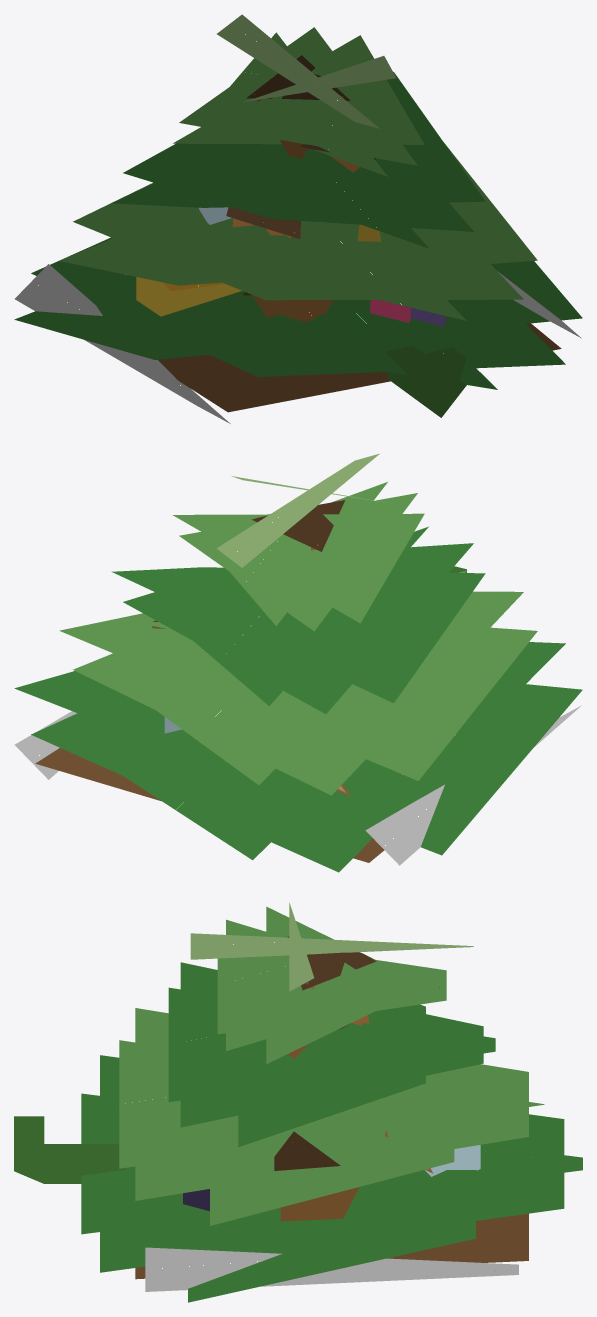
The model's file is rival-pile-blocky_lod2.glb.
The picture shows the model from 3 angles, top to bottom: view 1: azimuth 30°, elevation 25°; view 2: azimuth 150°, elevation 25°; view 3: azimuth 270°, elevation 25°; orthographic projection. The views are drawn at different scales.
Visible parts, largest first — view 1: leaf-cover, pile-25, pile-100, pile-75, pile-50; view 2: leaf-cover, pile-100, pile-75, pile-25; view 3: leaf-cover, pile-25, pile-100, pile-75, pile-50.
Part boxes in pixels (<box>): leaf-cover: <box>14,14,582,417</box>; pile-25: <box>15,277,581,423</box>; pile-100: <box>43,55,552,408</box>; pile-75: <box>20,207,576,421</box>; pile-50: <box>126,275,437,322</box>; leaf-cover: <box>14,453,582,872</box>; pile-100: <box>14,500,581,835</box>; pile-75: <box>20,711,570,860</box>; pile-25: <box>35,620,455,865</box>; leaf-cover: <box>14,902,582,1302</box>; pile-25: <box>135,1131,528,1291</box>; pile-100: <box>145,936,518,1291</box>; pile-75: <box>145,1136,479,1287</box>; pile-50: <box>183,1145,518,1283</box>.
Bounding box in the file's own units: 1 × 0.56 × 1.13.
